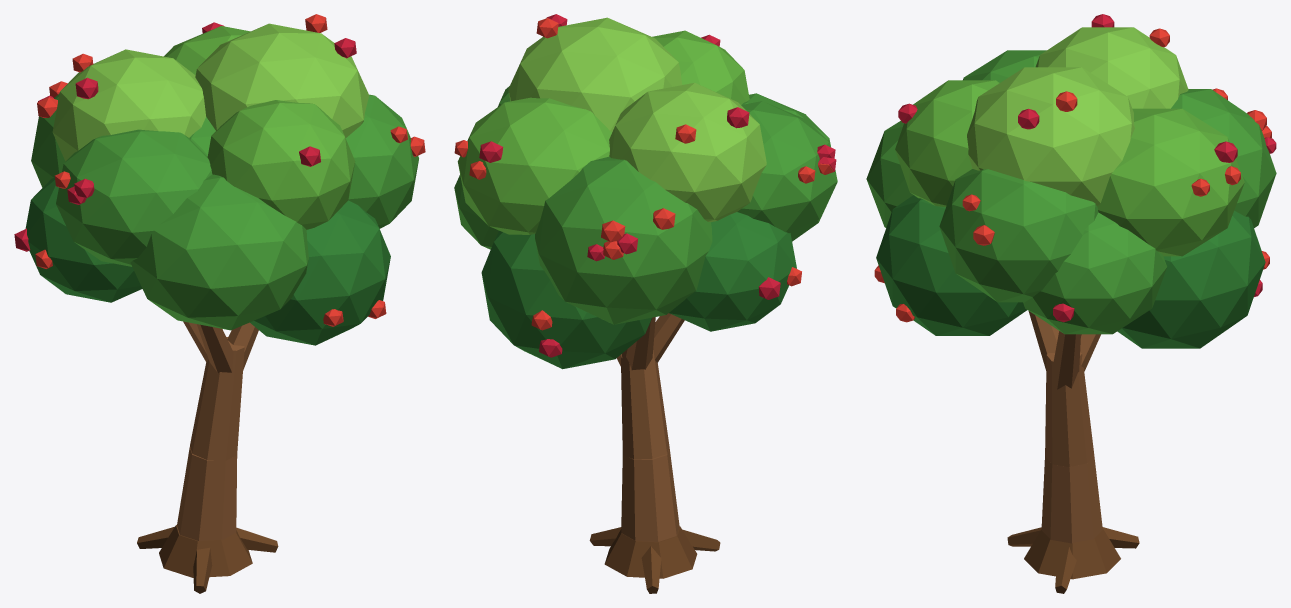
File: tree-cherry.glb
3 renders of one model, left to right at view 1: azimuth 30°, elevation 25°; view 2: azimuth 150°, elevation 25°; view 3: azimuth 270°, elevation 25°, orthographic.
Visible parts, largest first — view 1: Cherry_Crown, Cherry_Trunk; view 2: Cherry_Crown, Cherry_Trunk; view 3: Cherry_Crown, Cherry_Trunk.
Part boxes in pixels (bbox=[...]): Cherry_Crown: bbox=[14, 14, 425, 345]; Cherry_Trunk: bbox=[137, 321, 278, 593]; Cherry_Crown: bbox=[454, 14, 837, 369]; Cherry_Trunk: bbox=[589, 313, 720, 593]; Cherry_Crown: bbox=[866, 14, 1276, 348]; Cherry_Trunk: bbox=[1007, 311, 1139, 593].
Size of the model in its own units: 1.95 by 2.83 by 2.
